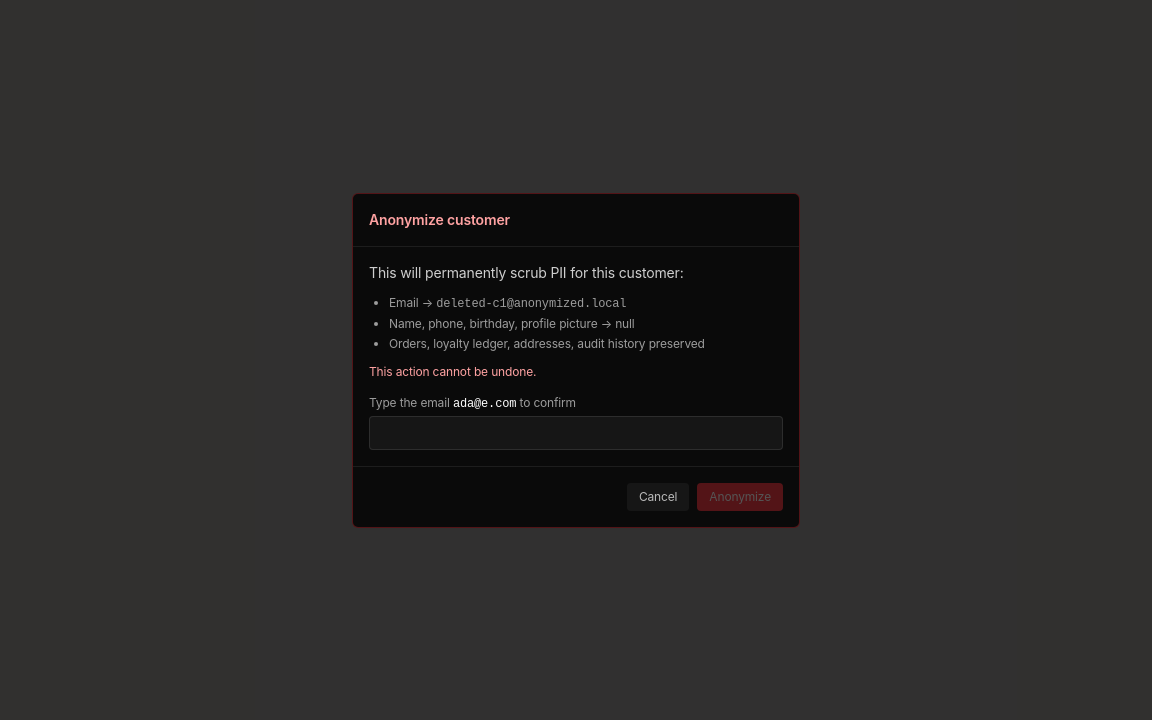
Test case: AnonymizeConfirmDialog › Confirm button disabled until email matches
This screenshot has width=1152, height=720.
Expected: the button "Anonymize" is disabled, [697,482,783,510]
Type "ada@e.com" into the field labelled "Type the email ada@e.com to confirm" at x=576, y=432, box [369,416,783,450]
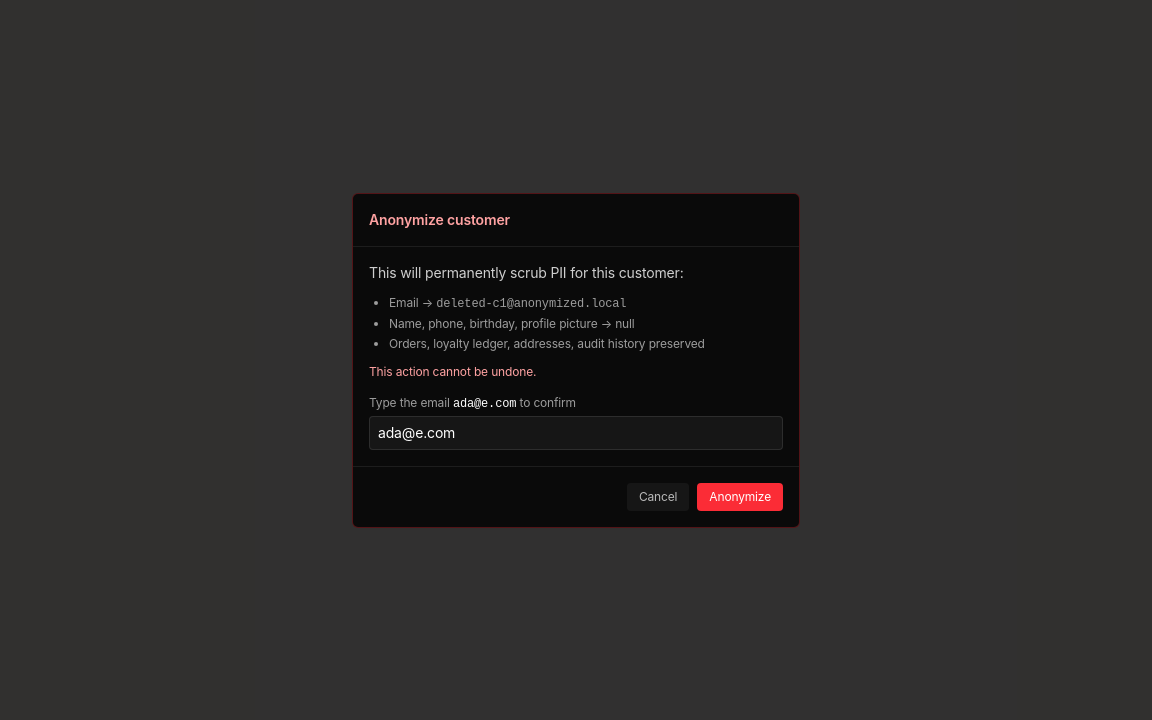
Expected: the button "Anonymize" is enabled, [697,482,783,510]
